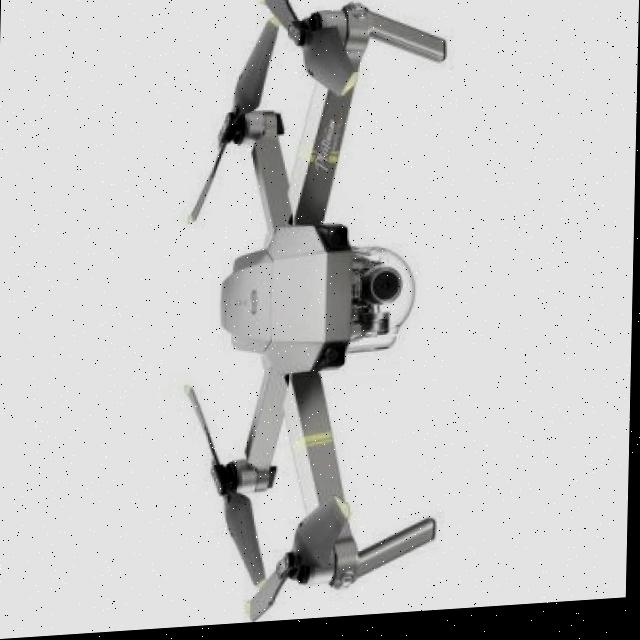drone: (187, 0, 461, 629)
